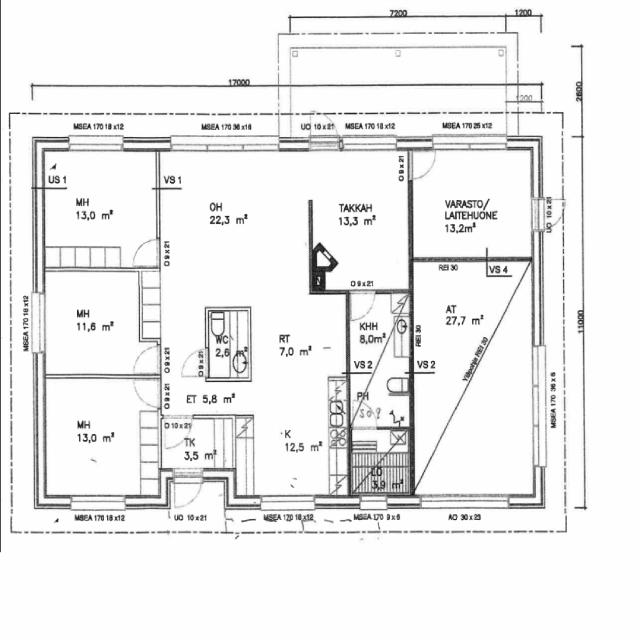door: (530, 198, 569, 230), (174, 468, 201, 513), (311, 106, 337, 150), (165, 414, 192, 450), (134, 380, 162, 408), (134, 346, 162, 374), (409, 152, 438, 179), (134, 238, 162, 265), (182, 348, 209, 376), (353, 399, 377, 430), (351, 290, 375, 320)
